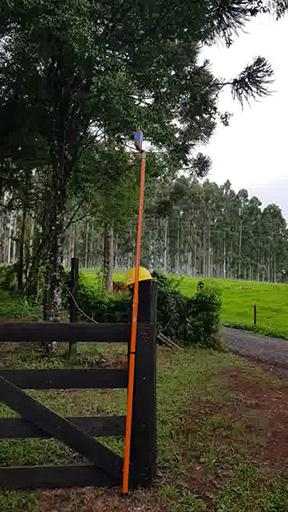Vara_Manobra: (122, 152, 146, 495)
